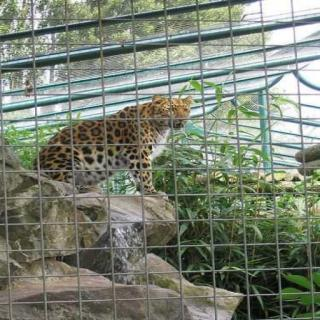Leopard: (18, 88, 198, 209)
